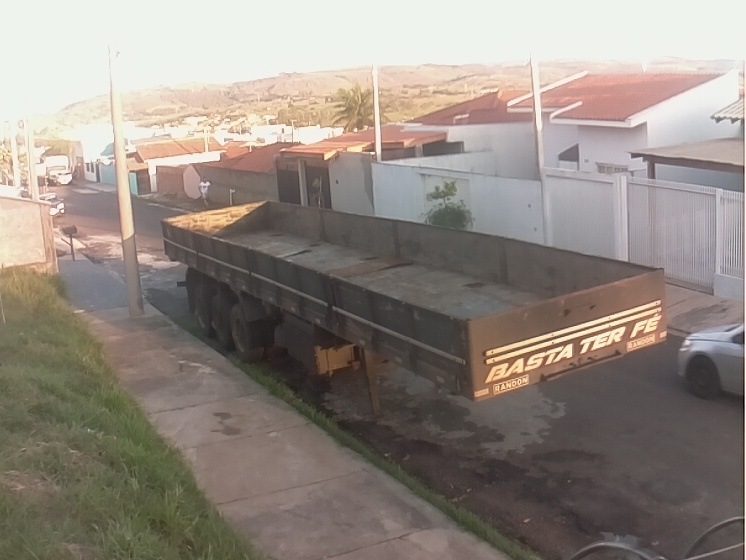person: (197, 176, 213, 208)
